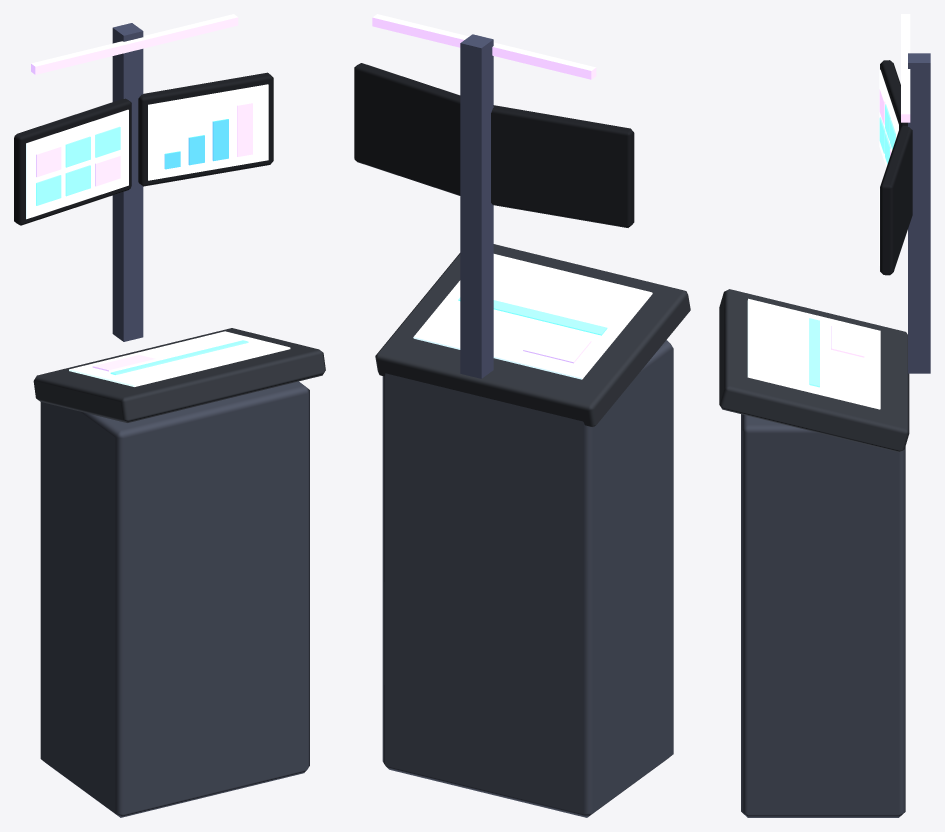
Rendered from station_intake_ausstattung_3_3.glb.
The picture shows the model from 3 angles, left to right: view 1: azimuth 30°, elevation 25°; view 2: azimuth 150°, elevation 25°; view 3: azimuth 270°, elevation 25°; orthographic projection. The views are drawn at different scales.
Parts seen in each view (by area): view 1: station_intake_ausstattung_3_3; view 2: station_intake_ausstattung_3_3; view 3: station_intake_ausstattung_3_3.
Boxes of the visible parts, x1,y1,x2,y2 form: station_intake_ausstattung_3_3: (14, 14, 325, 817); station_intake_ausstattung_3_3: (354, 14, 690, 817); station_intake_ausstattung_3_3: (719, 14, 930, 817).
Bounding box in the file's own units: 0.6588 × 1.73 × 0.463.
